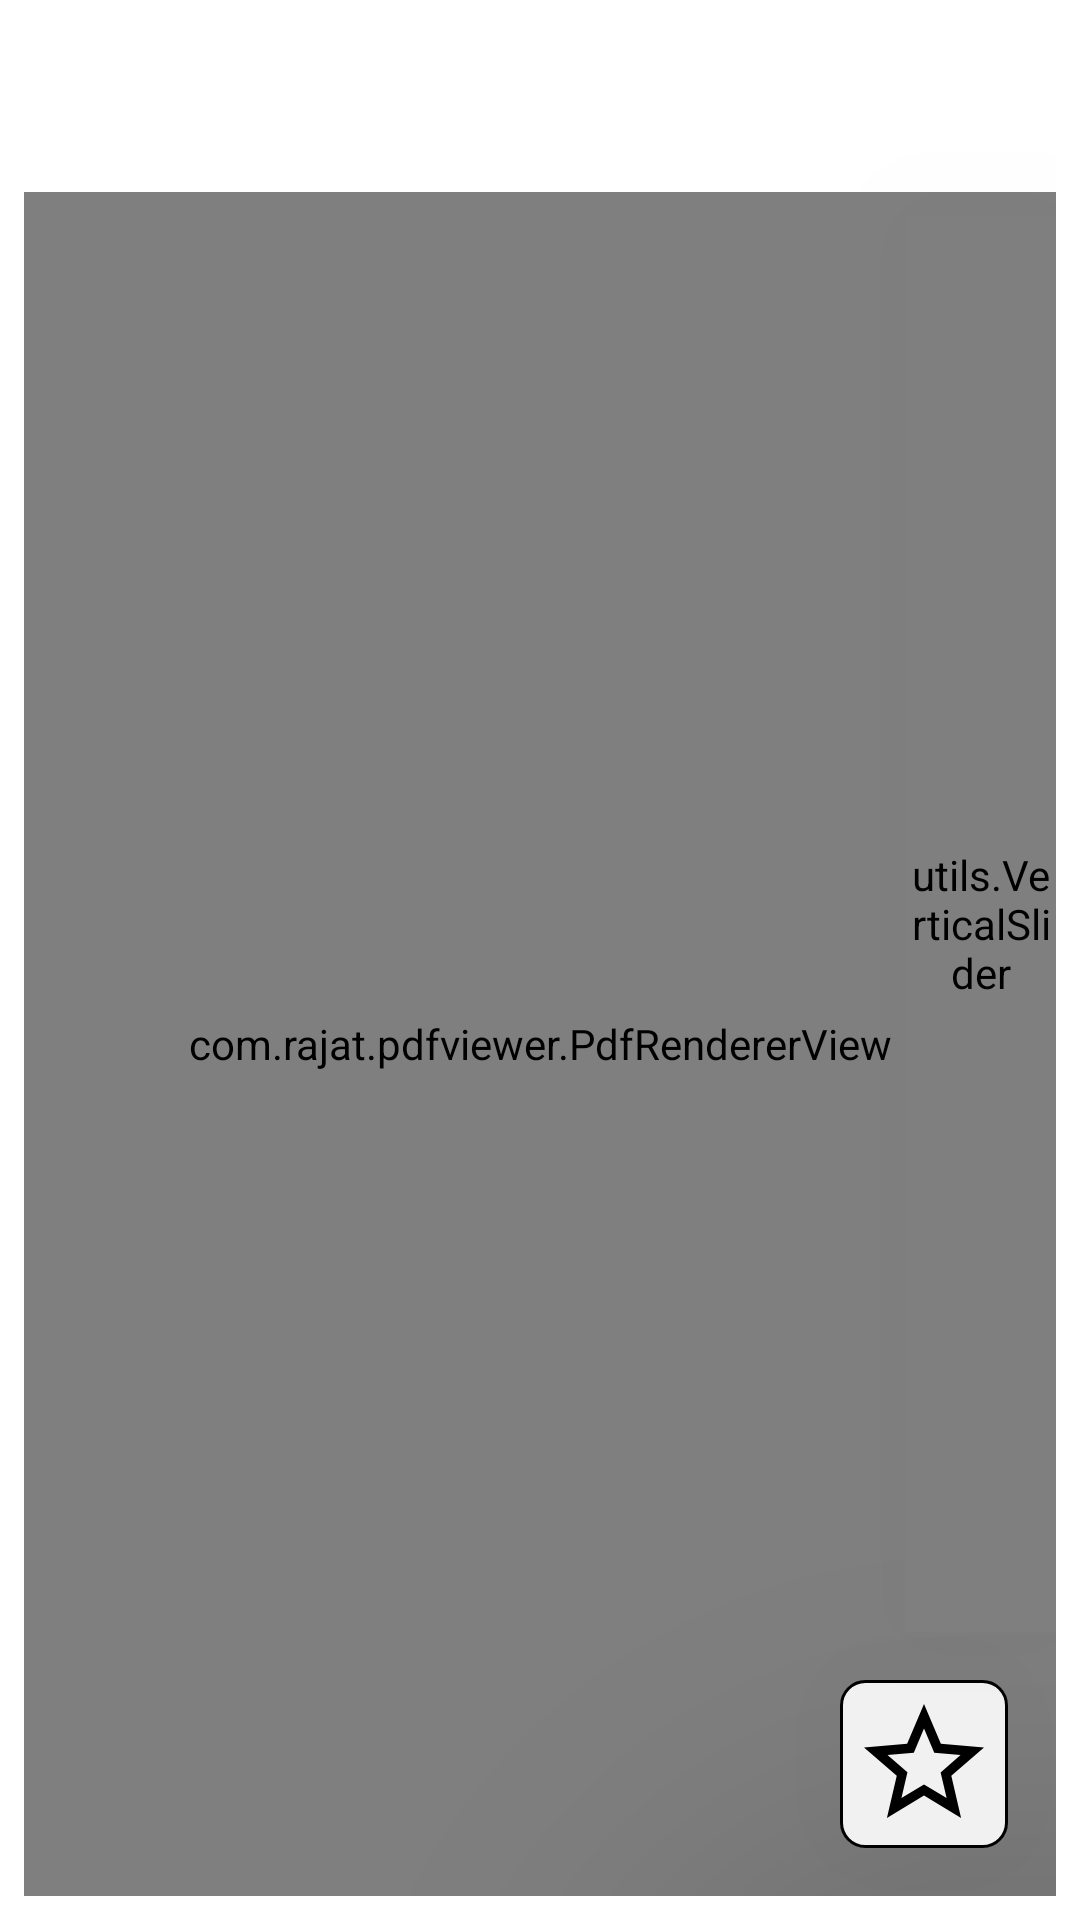

Where to tap for icons on this 1080×1920 app screen, as (x=x, y=y):
Image Button Favorite: (x=924, y=1764)
